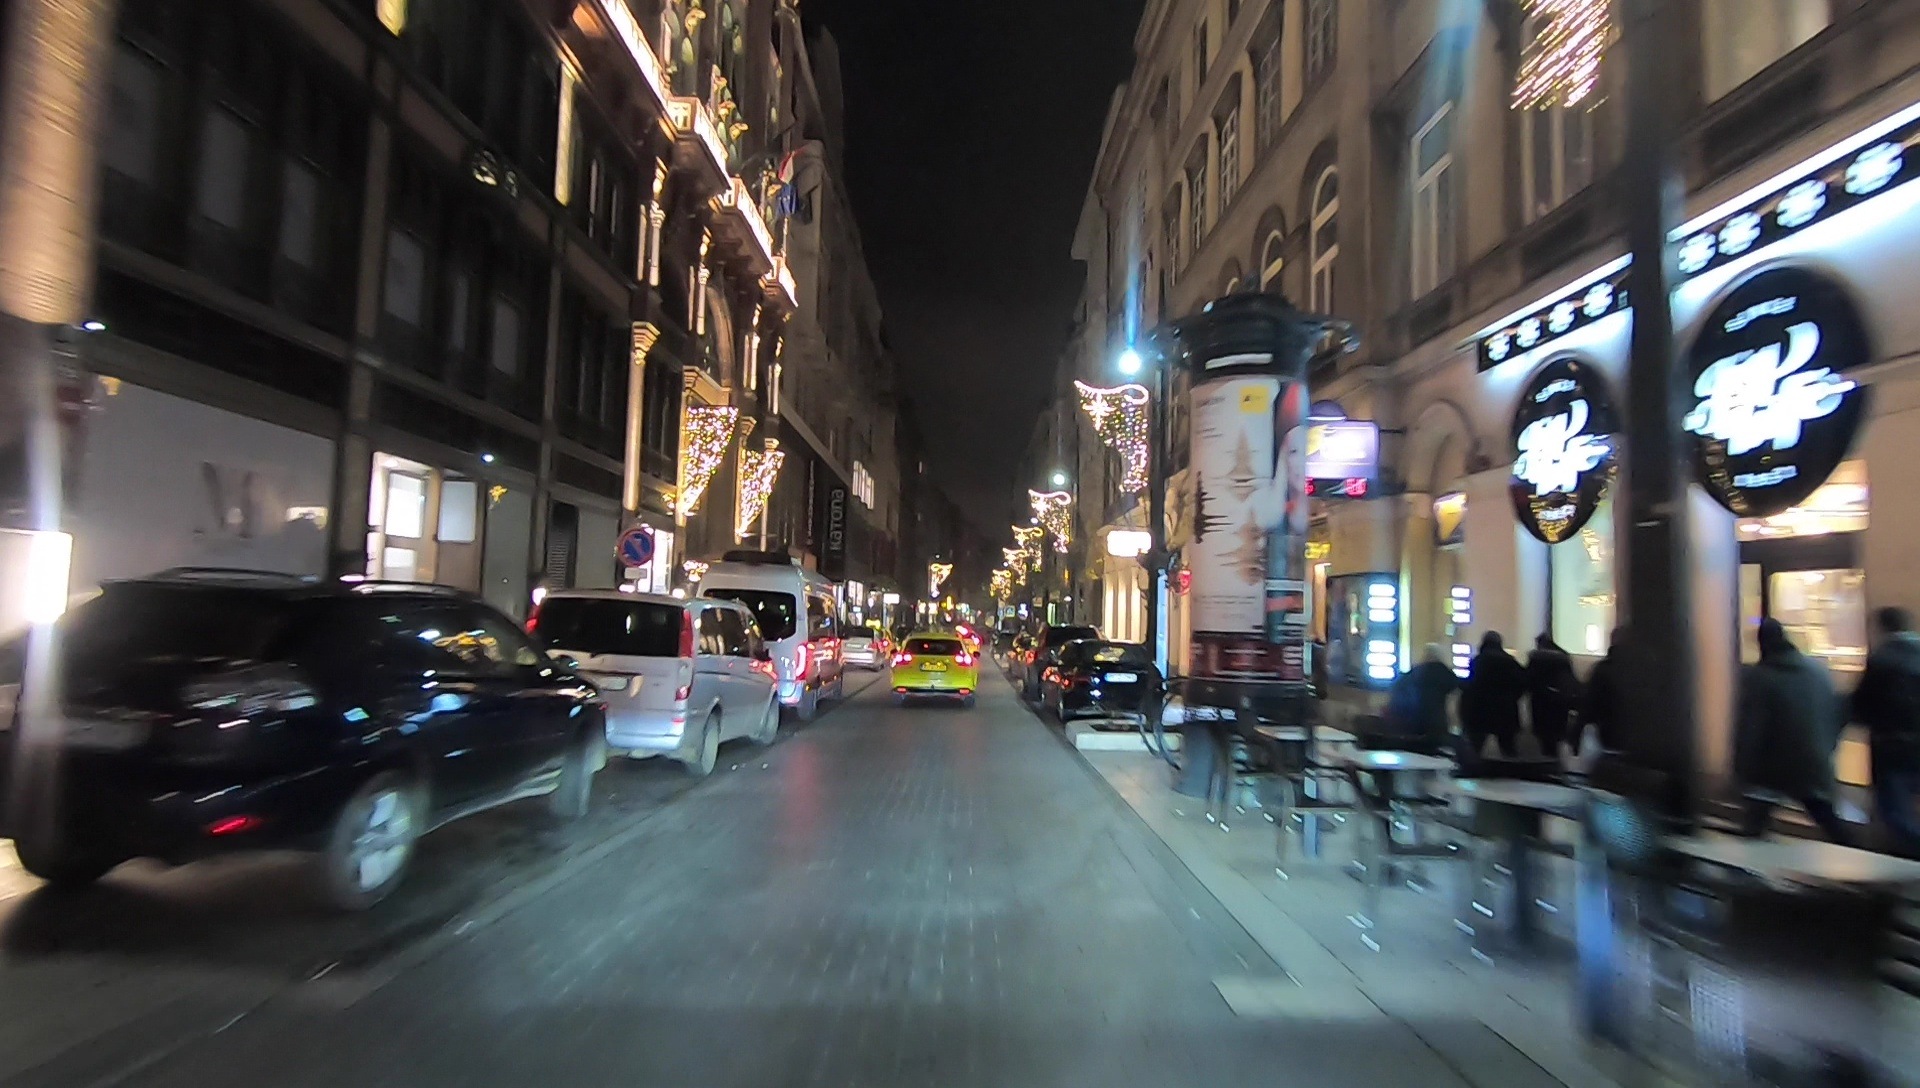person: (1721, 617, 1843, 908), (1858, 606, 1920, 860), (1388, 645, 1460, 826), (1465, 626, 1528, 815), (1530, 632, 1582, 811)
